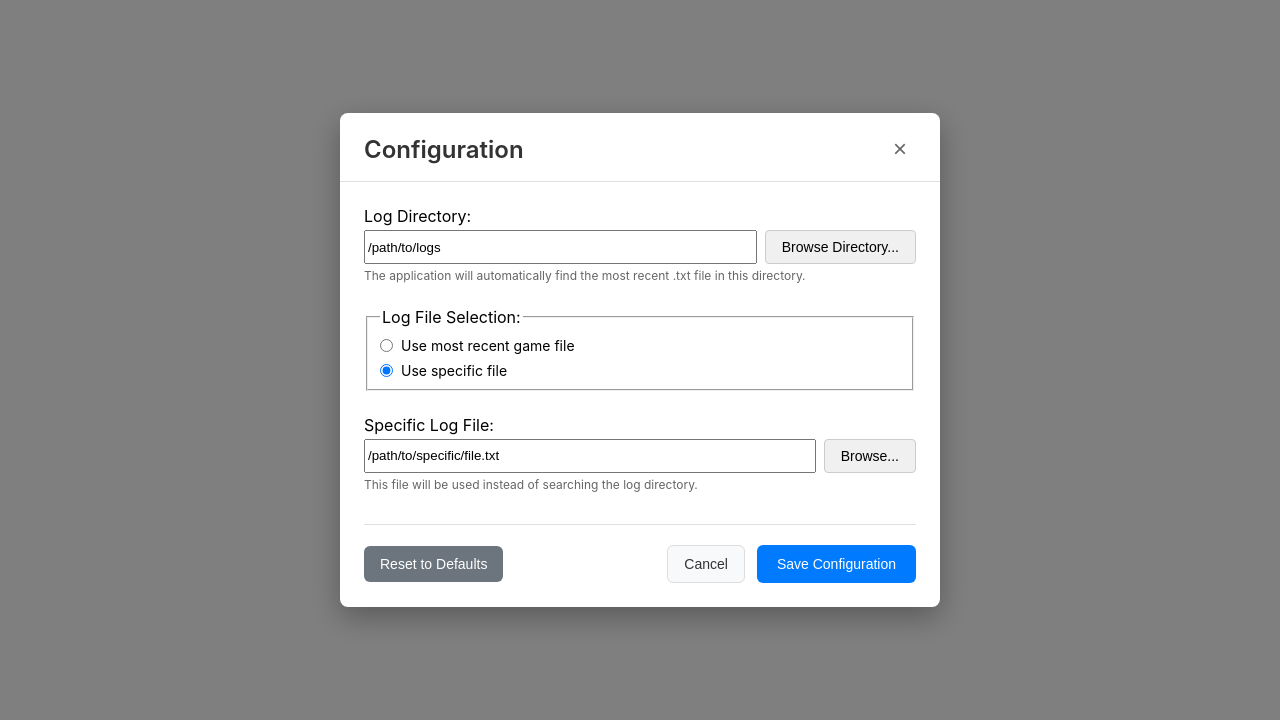
it: ConfigModal › Form interactions › clears specific file path when switching to recent mode
// Switch to specific file mode and enter a path
Click the radio button labelled "Use specific file": (386, 370) [380,364,393,377]
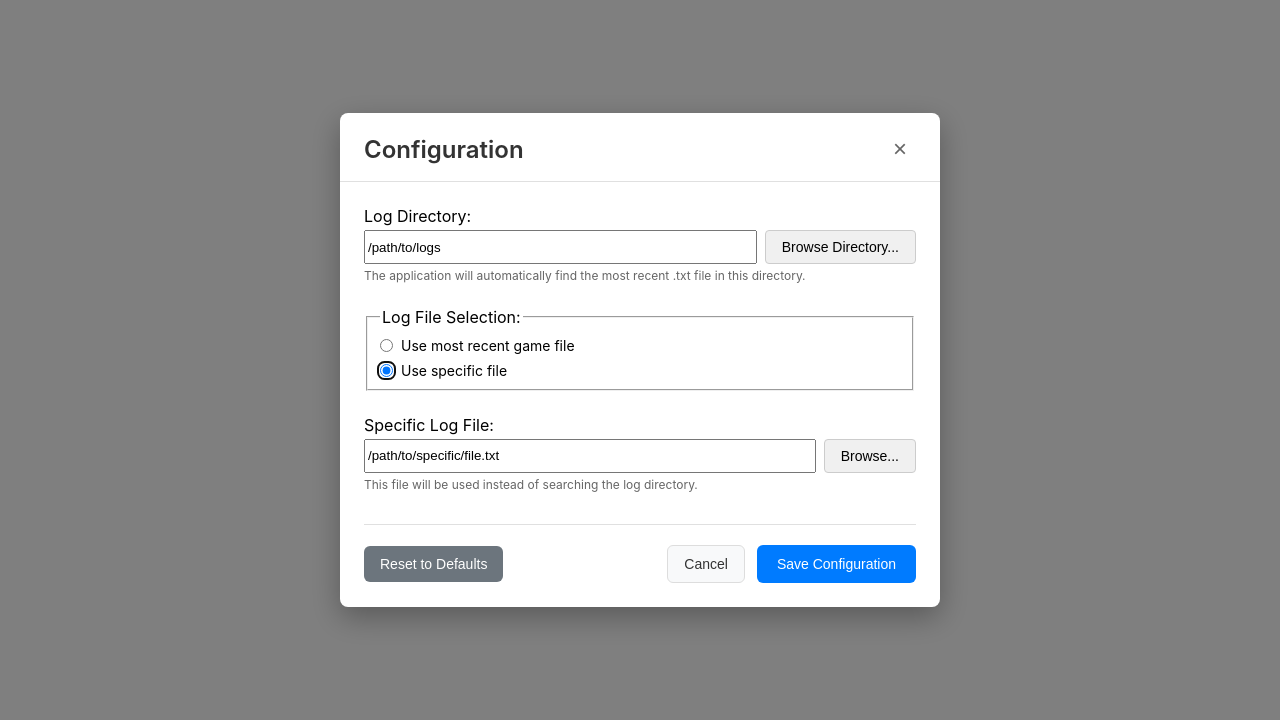
In the field labelled "Specific Log File:": (590, 456) [364,439,816,473], type "/path/to/file.txt"
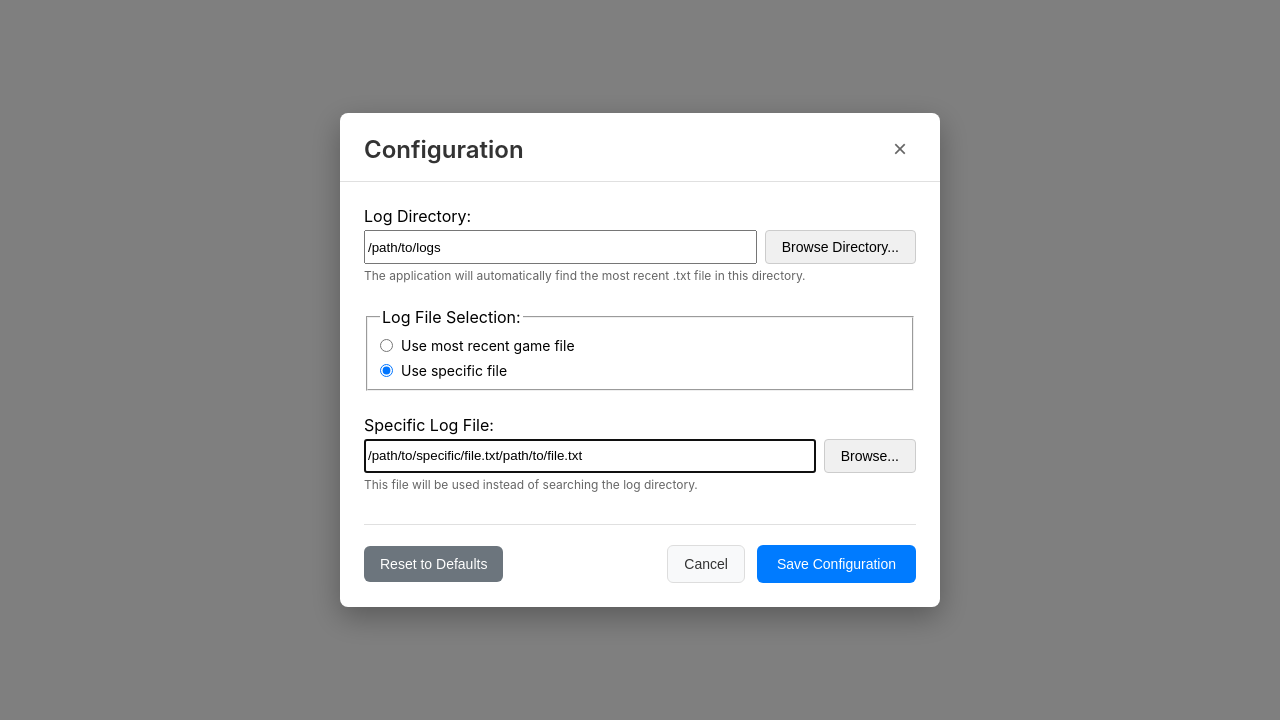
// Switch back to recent mode
Click the radio button labelled "Use most recent game file": (386, 345) [380,339,393,352]
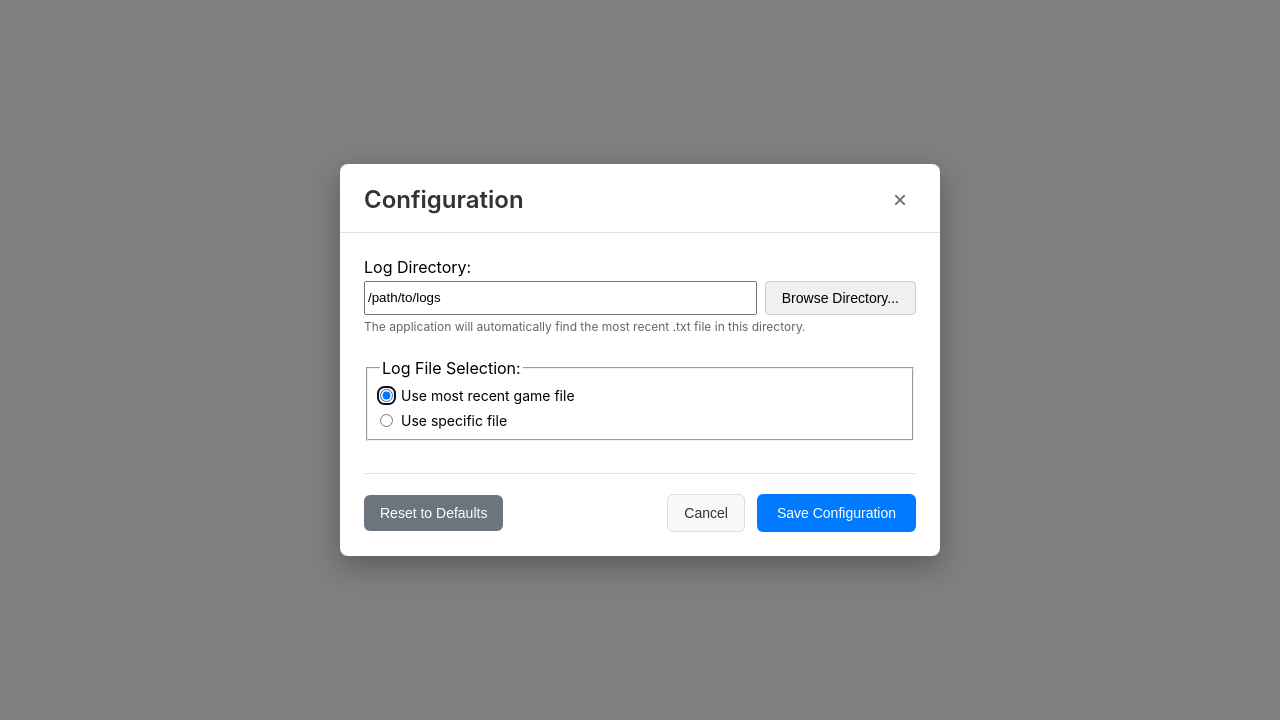
Check: the label labelled "Specific Log File:" is gone
